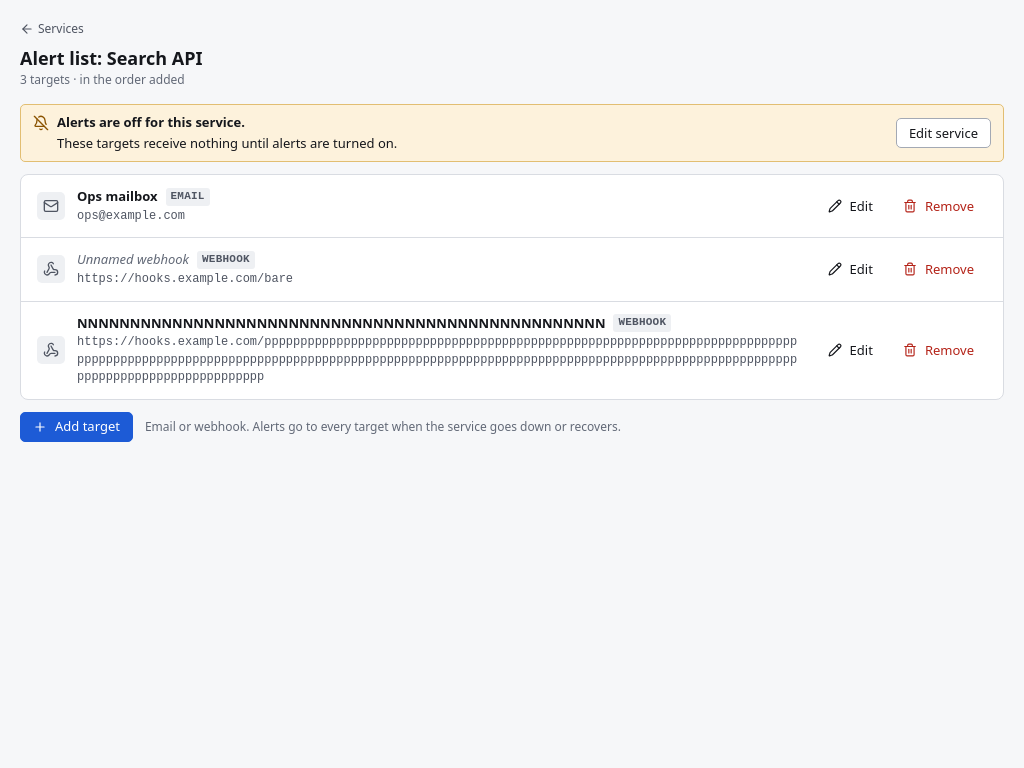
Test: something went wrong › keeps the rows under the banner when a reload fails with the list on screen, and shows both banners, Something went wrong first, when alerts are off and a reloa
The width and height of the screenshot is (1024, 768).
Expected: the text "Alerts are off for this service." is shown, [57,113,245,131]
Click the button with aria-label "Remove Ops mailbox" at (938, 206), box [890,191,987,221]
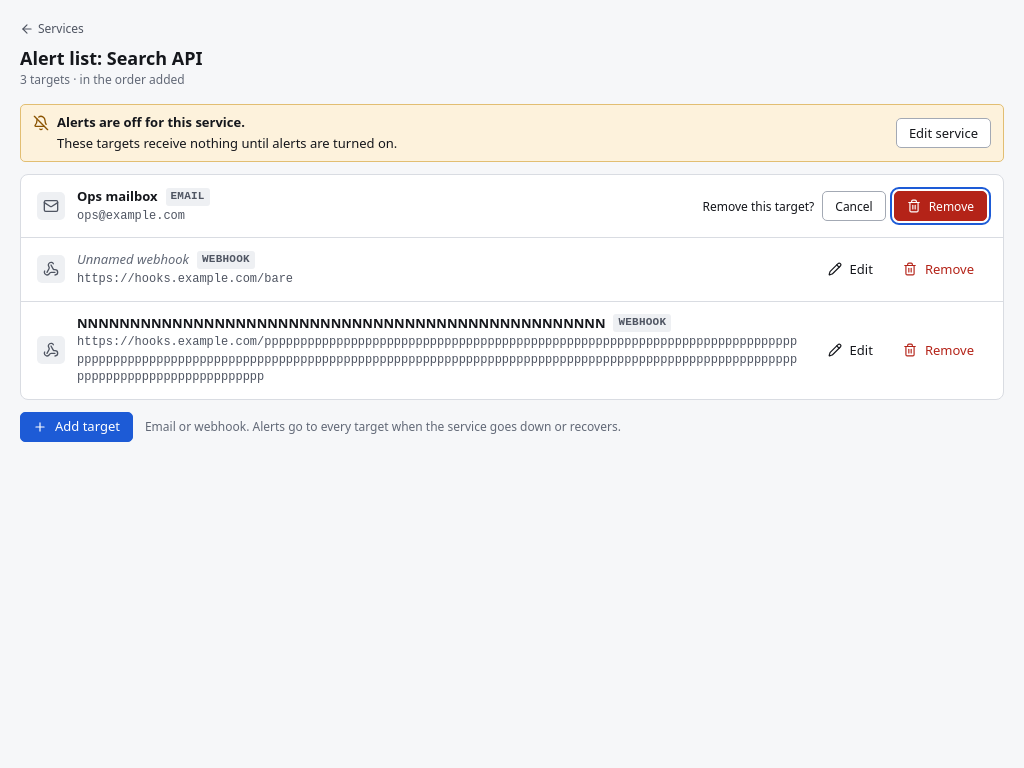
Click the button "Remove" in the row of "Remove this target?" at (940, 206), box [894,191,987,221]
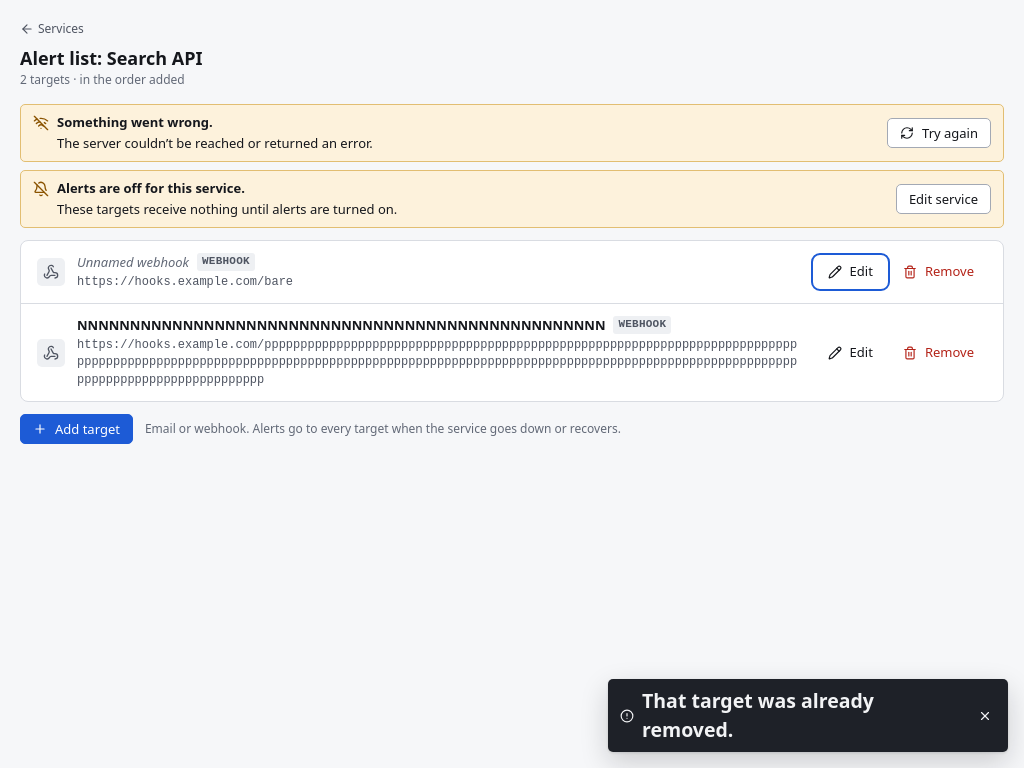
Expected: the text "Something went wrong." is shown, [57,113,213,131]
Expected: the number of list items is 2, [37,253,987,289]; [21,303,1003,401]
